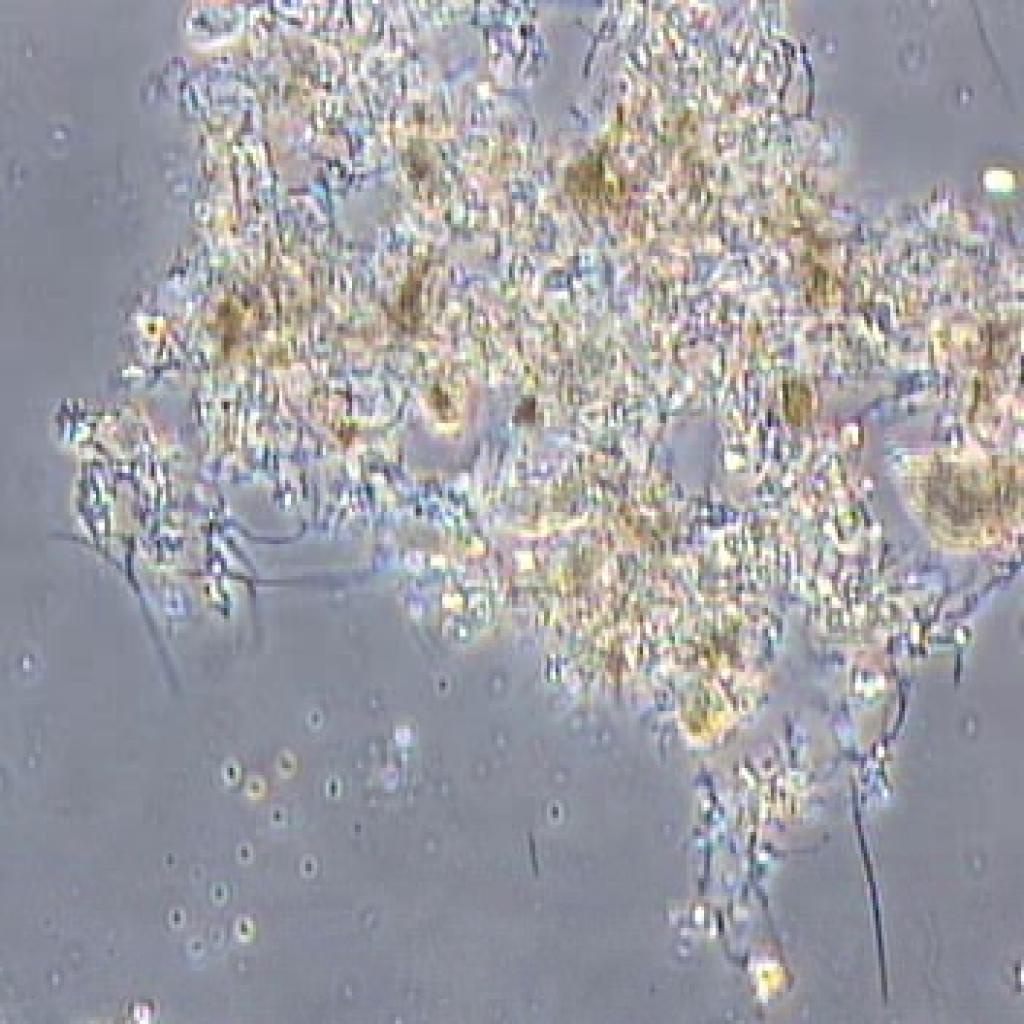Chaetonotus: (880, 436, 1023, 556)
